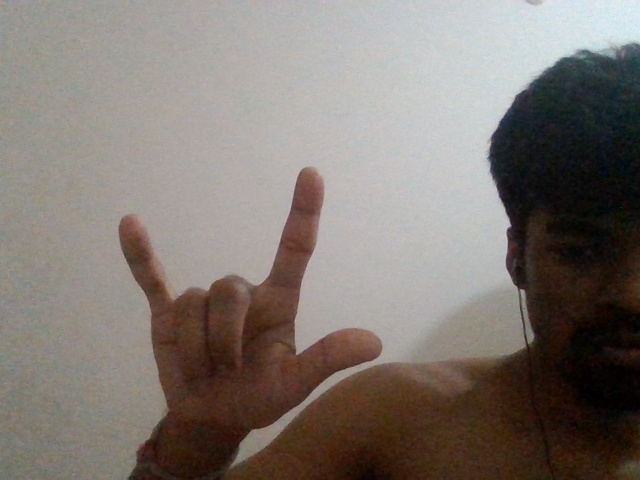ILoveYou: (112, 151, 390, 443)
